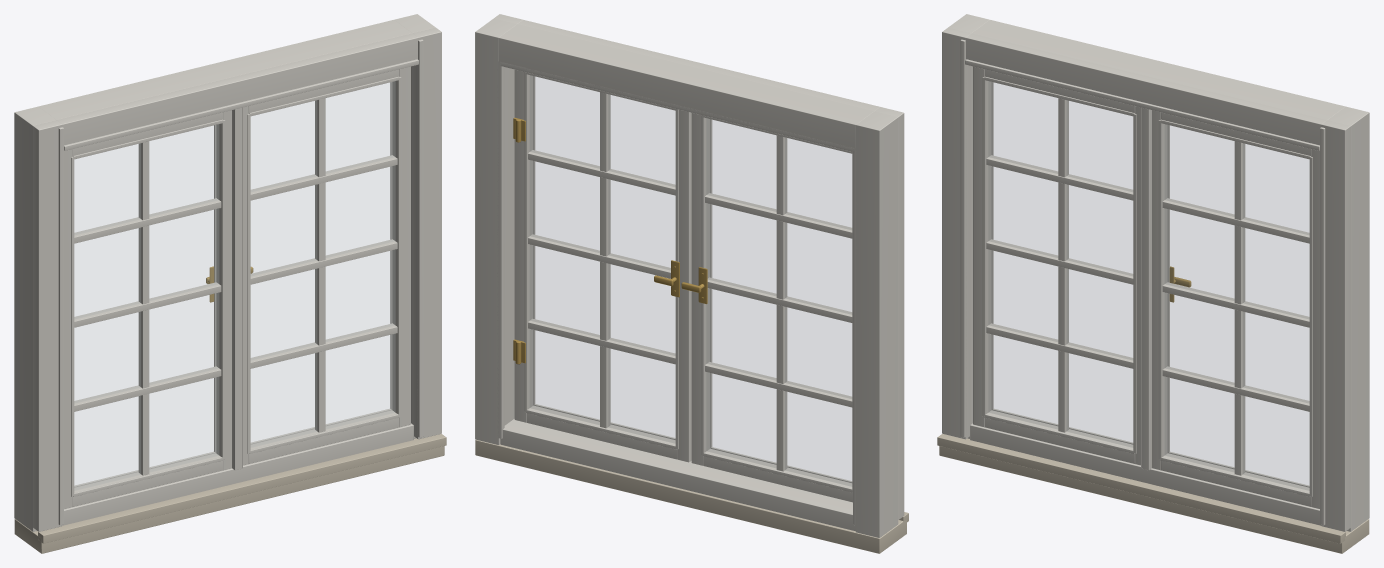
Rendered from rpg-mansion-casement-window-01.glb.
3 renders of one model, left to right at view 1: azimuth 30°, elevation 25°; view 2: azimuth 150°, elevation 25°; view 3: azimuth 330°, elevation 25°, orthographic.
Parts seen in each view (by area): view 1: rpg-mansion-casement-window-01; view 2: rpg-mansion-casement-window-01; view 3: rpg-mansion-casement-window-01.
Boxes of the visible parts, <box> form: rpg-mansion-casement-window-01: <box>14,14,446,553</box>; rpg-mansion-casement-window-01: <box>475,14,908,553</box>; rpg-mansion-casement-window-01: <box>937,14,1369,553</box>.
Bounding box in the file's own units: 1.2 × 1.2 × 0.15.
